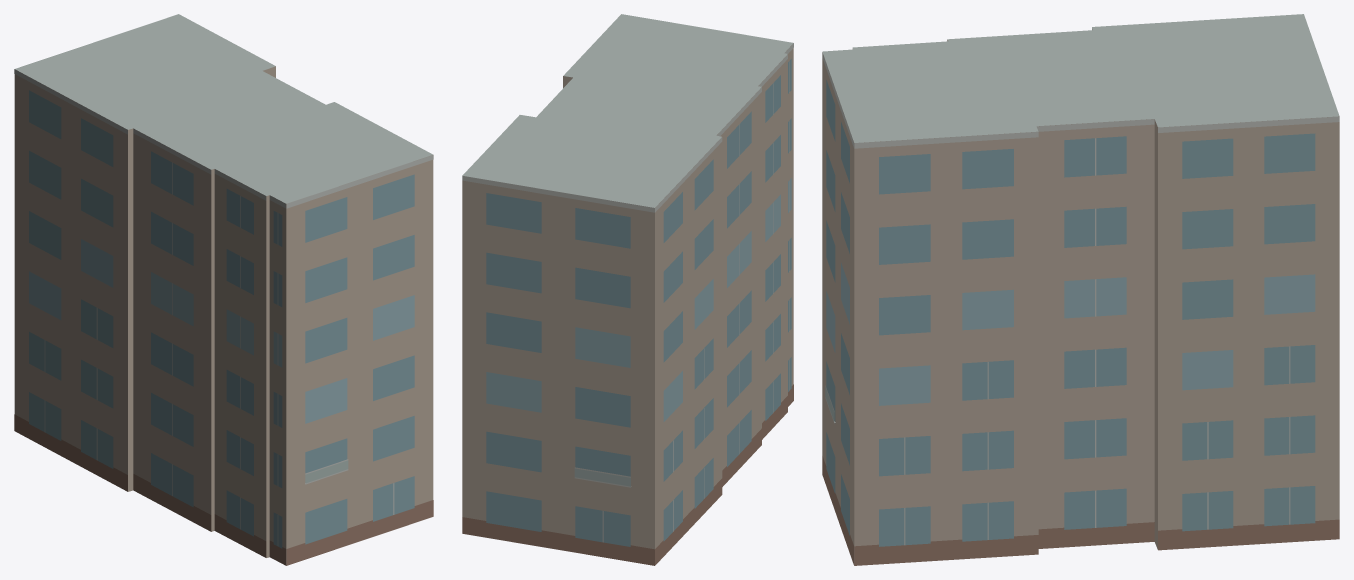
Rendered from survey-upis-32743293.glb.
3 views of the same model, side by side, from view 1: azimuth 30°, elevation 25°; view 2: azimuth 150°, elevation 25°; view 3: azimuth 270°, elevation 25° (orthographic). The views are drawn at different scales.
Visible parts, largest first — view 1: survey-upis-32743293.tmp; view 2: survey-upis-32743293.tmp; view 3: survey-upis-32743293.tmp.
Part boxes in pixels (x1=…): survey-upis-32743293.tmp: x1=14, y1=14, x2=433, y2=565; survey-upis-32743293.tmp: x1=462, y1=14, x2=793, y2=565; survey-upis-32743293.tmp: x1=822, y1=14, x2=1339, y2=565.
Bounding box in the file's own units: 11.92 × 18.2 × 20.19.
